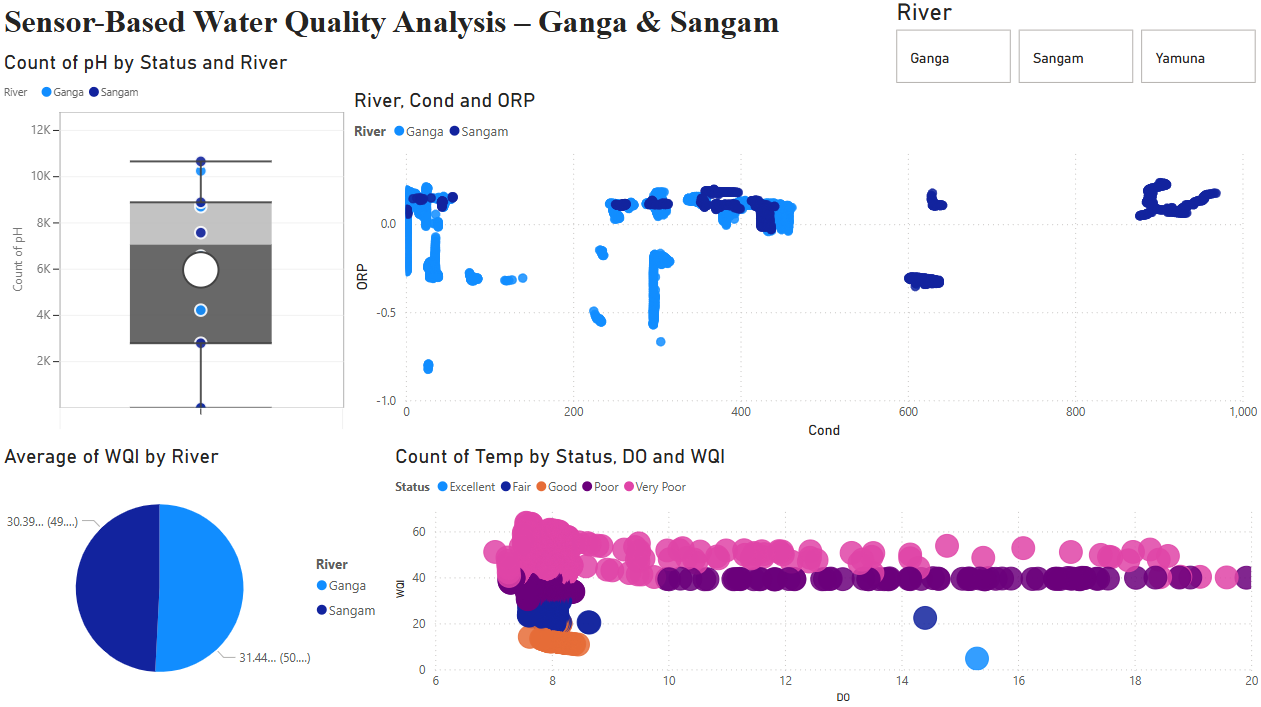

What the dashboard file says about the page in this screenshot:
{"tool":"powerbi","page":{"name":"Page 2","canvas":[1280,720],"ordinal":1},"visuals":[{"type":"textbox","box":[0,0,817.7,53.2],"z":0},{"type":"advancedSlicerVisual","fields":{"Values":["combined_river_data_for_powerbi.River"]},"box":[903.8,0,376.2,91.2],"z":1000},{"type":"scatterChart","fields":{"X":["combined_river_data_for_powerbi.DO"],"Y":["combined_river_data_for_powerbi.WQI"],"Size":["Count(combined_river_data_for_powerbi.Temp)"],"Series":["combined_river_data_for_powerbi.Status"]},"box":[396,452,884,268],"z":2000},{"type":"pieChart","fields":{"Category":["combined_river_data_for_powerbi.River"],"Y":["Avg(combined_river_data_for_powerbi.WQI)"]},"box":[0,451.4,395.7,268.6],"z":3000},{"type":"scatterChart","fields":{"X":["combined_river_data_for_powerbi.Cond"],"Y":["combined_river_data_for_powerbi.ORP"],"Series":["combined_river_data_for_powerbi.River"]},"box":[355,91.7,925,360],"z":4000},{"type":"BoxandWhiskerByMAQ1823AD39DT234AB532063E128AX","fields":{"category":["combined_river_data_for_powerbi.Status"],"measure":["CountNonNull(combined_river_data_for_powerbi.pH)"],"categoryColor":["combined_river_data_for_powerbi.River"]},"box":[0,53.3,355,398.3],"z":5000}]}

Visuals, with their boxes in screenshot pixels (x1, y1, x2, y2), scaled from the page's 1280x720 canvas onto the 1261x707 screenshot:
textbox: 0/0/806/52
advancedSlicerVisual - combined_river_data_for_powerbi.River: 890/0/1260/90
scatterChart - combined_river_data_for_powerbi.DO x combined_river_data_for_powerbi.WQI: 390/444/1260/706
pieChart - combined_river_data_for_powerbi.River x Avg(combined_river_data_for_powerbi.WQI): 0/443/390/706
scatterChart - combined_river_data_for_powerbi.Cond x combined_river_data_for_powerbi.ORP: 350/90/1260/444
BoxandWhiskerByMAQ1823AD39DT234AB532063E128AX - combined_river_data_for_powerbi.Status x CountNonNull(combined_river_data_for_powerbi.pH): 0/52/350/443
